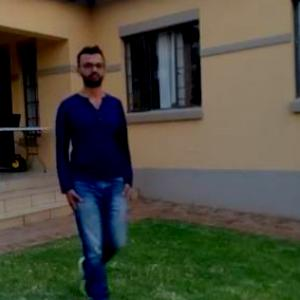follow: (62, 61, 133, 281)
